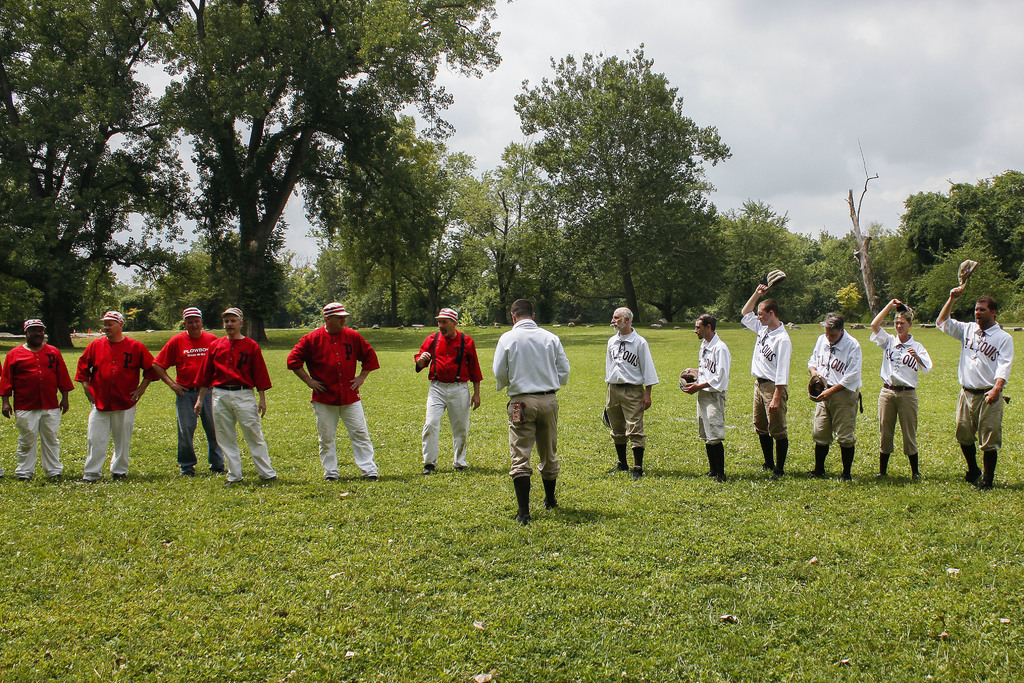Tree: (135, 0, 515, 324), (0, 212, 1023, 331), (0, 0, 201, 347), (513, 65, 730, 297), (892, 167, 1023, 310)
